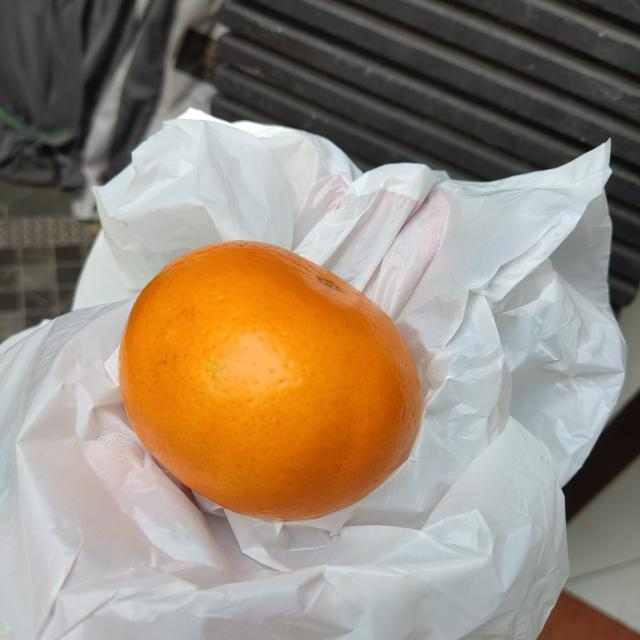orange: (116, 236, 424, 521)
